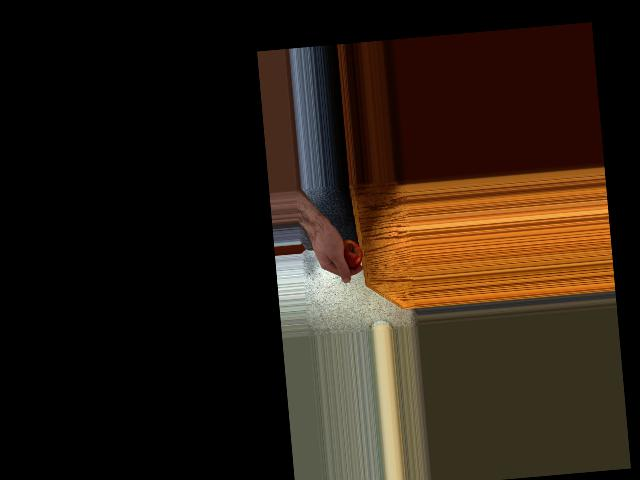apple: (336, 237, 364, 271)
